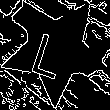L_N: (33, 20, 77, 79)
